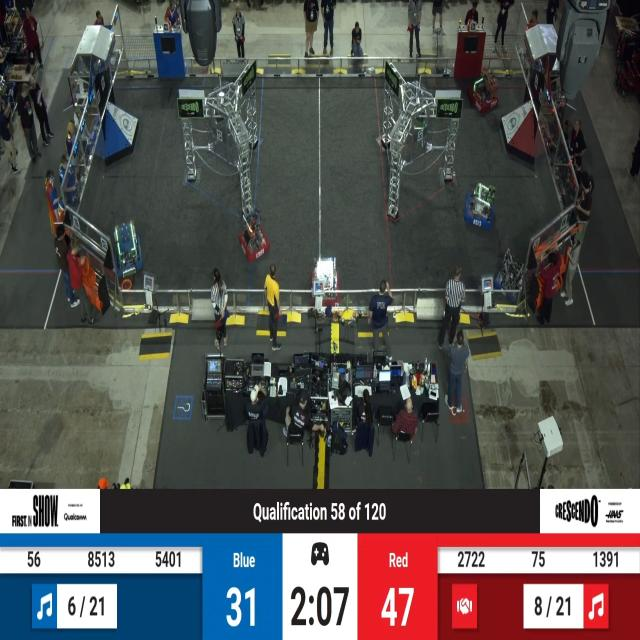Robot: (108, 216, 152, 281), (492, 240, 532, 304), (238, 190, 270, 267), (308, 243, 347, 305), (464, 180, 498, 231), (469, 66, 501, 118)
